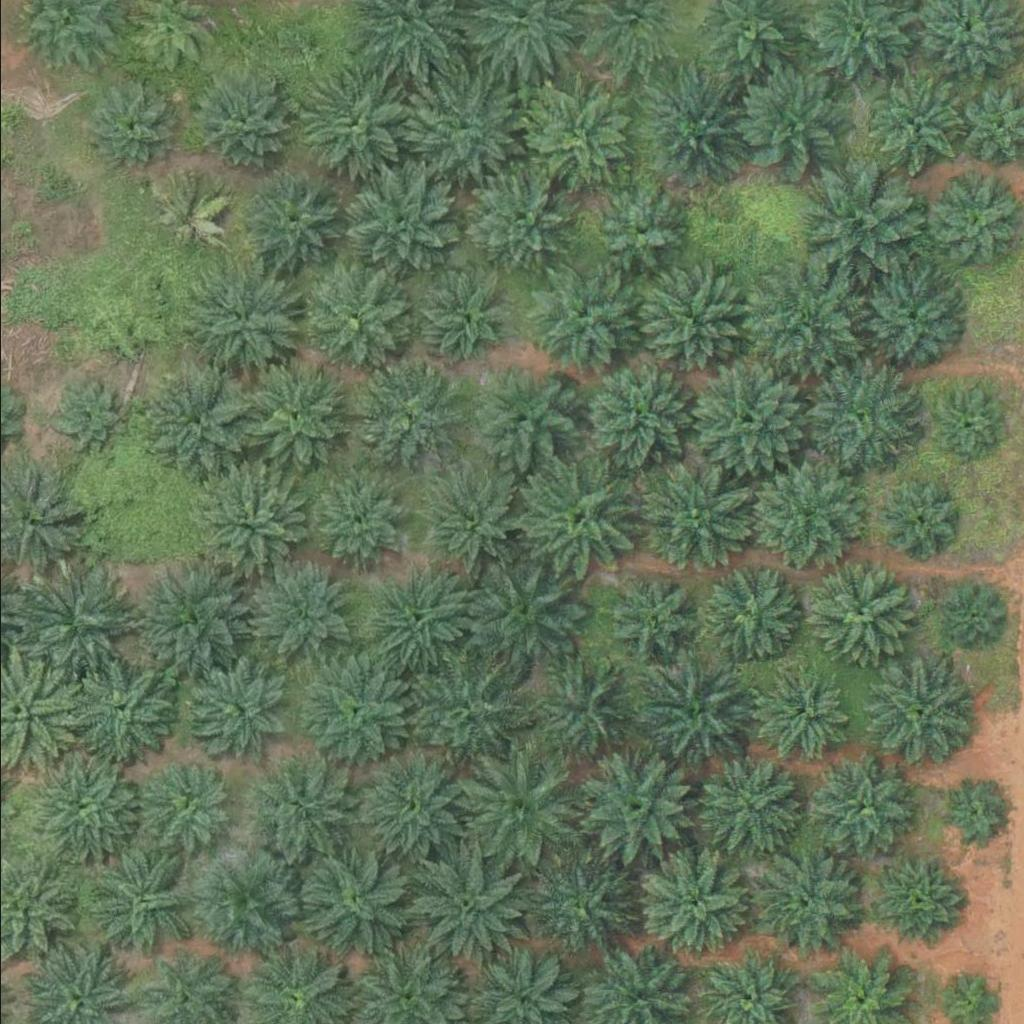Kelapa_Sawit: (728, 61, 854, 186), (795, 158, 921, 283), (736, 261, 862, 386), (571, 355, 697, 480), (629, 456, 755, 581), (514, 455, 640, 580), (458, 551, 584, 676), (638, 647, 764, 772), (519, 646, 645, 771), (403, 646, 529, 771), (569, 747, 695, 872), (451, 745, 577, 870), (403, 842, 529, 967), (289, 838, 415, 963), (349, 745, 475, 870), (292, 648, 418, 773), (10, 561, 136, 686), (627, 843, 752, 968), (630, 267, 744, 380), (140, 566, 254, 679), (345, 359, 459, 472), (526, 265, 639, 378), (408, 258, 521, 371), (460, 359, 573, 472), (749, 459, 862, 572), (80, 845, 193, 958), (186, 469, 299, 582), (237, 359, 350, 472), (136, 363, 249, 476), (301, 67, 414, 180), (188, 63, 301, 176), (692, 362, 806, 474), (413, 467, 527, 579), (27, 751, 141, 863), (173, 653, 287, 765), (66, 654, 180, 766), (636, 74, 749, 186), (517, 79, 630, 191), (407, 72, 520, 184), (462, 160, 575, 272), (808, 357, 921, 469), (297, 264, 410, 376), (183, 263, 296, 375), (346, 164, 459, 276), (811, 564, 912, 664), (696, 563, 797, 663), (870, 666, 971, 766), (749, 660, 850, 760), (813, 757, 914, 857), (701, 757, 802, 857), (756, 852, 857, 952), (529, 860, 630, 960), (193, 854, 294, 954), (250, 763, 351, 863), (80, 74, 181, 174), (864, 75, 964, 175), (858, 265, 958, 365), (601, 570, 701, 670), (370, 569, 470, 669), (249, 560, 349, 660), (303, 467, 403, 567), (143, 172, 232, 260), (595, 189, 683, 277), (243, 179, 331, 267), (929, 175, 1017, 262), (873, 863, 961, 950), (142, 764, 230, 851), (924, 386, 1000, 461), (881, 483, 956, 558), (48, 379, 123, 454), (939, 584, 1002, 647), (941, 784, 1004, 846)
